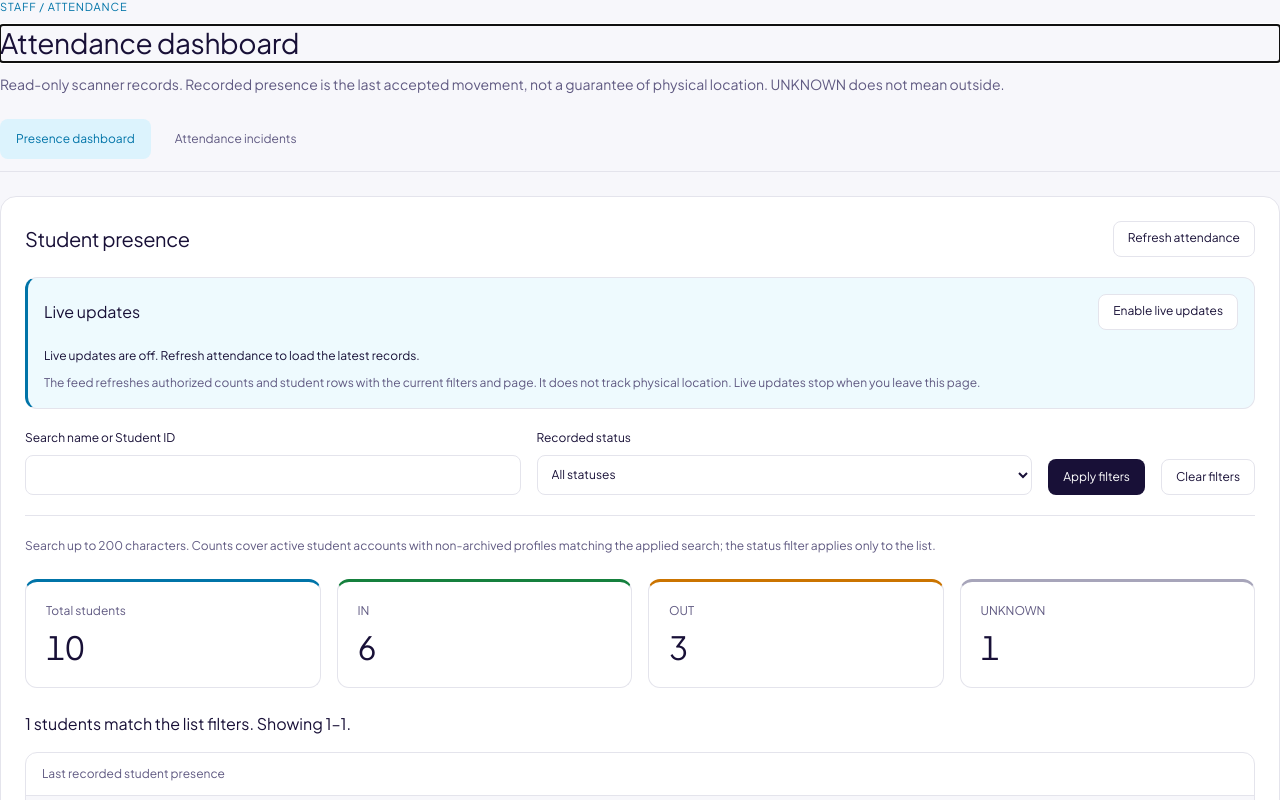
applies search to both endpoints and status only to the list
Type " Sample " into the field labelled "Search name or Student ID" at point(273, 475), box [25,455,521,495]
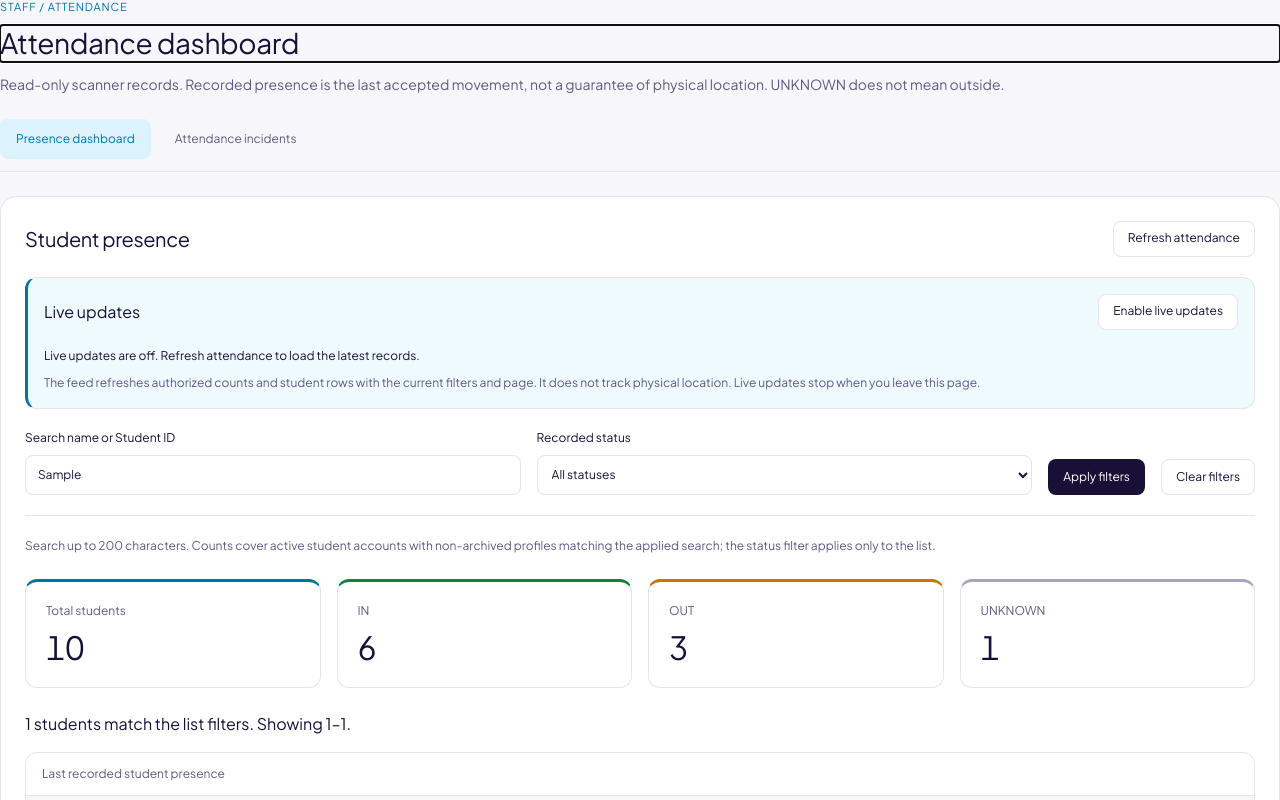
Select "IN" in the dropdown labelled "Recorded status" at point(784, 475), box [537,455,1032,495]
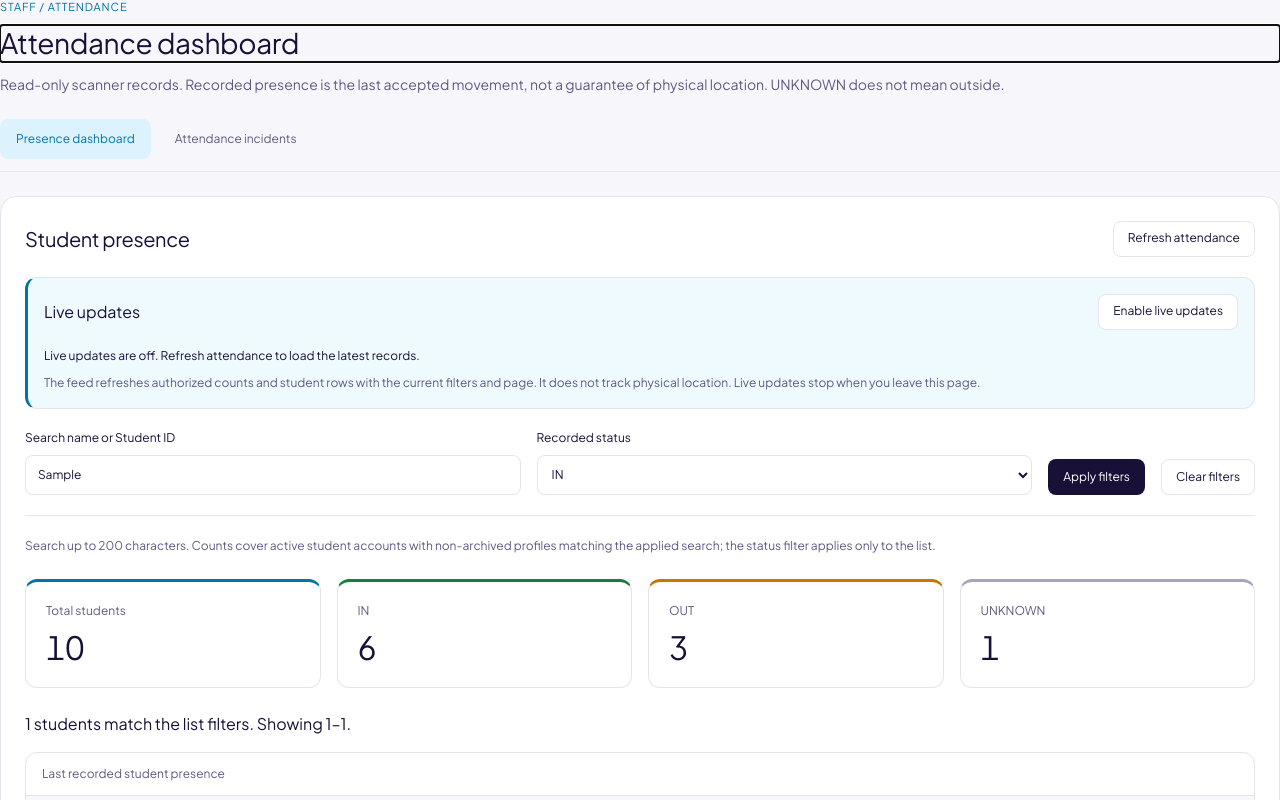
Click the button "Apply filters" at point(1097, 477), box [1048,459,1145,495]
(page scrolled)
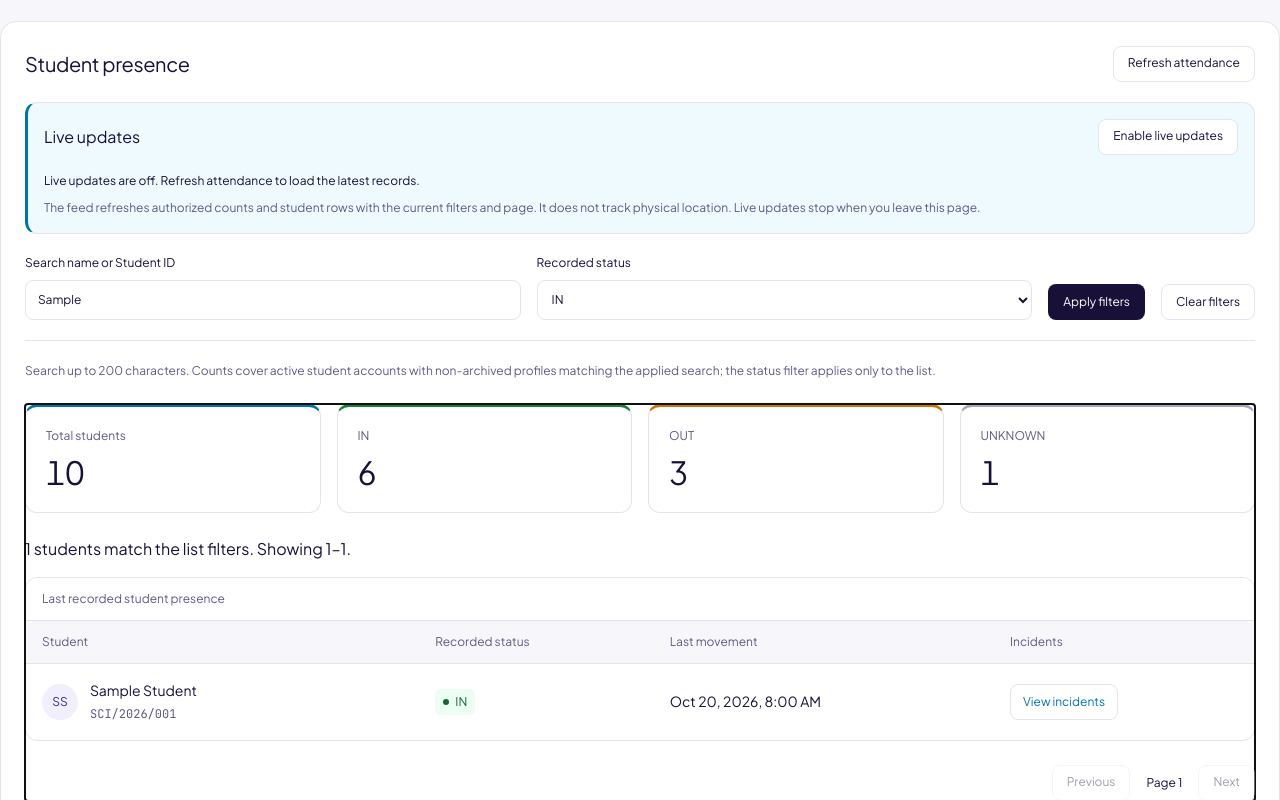
expect the link "Sample Student" is shown: met, box [90,680,197,698]
Click the button "Clear filters" at point(1208, 302), box [1161,284,1255,320]
(page scrolled)
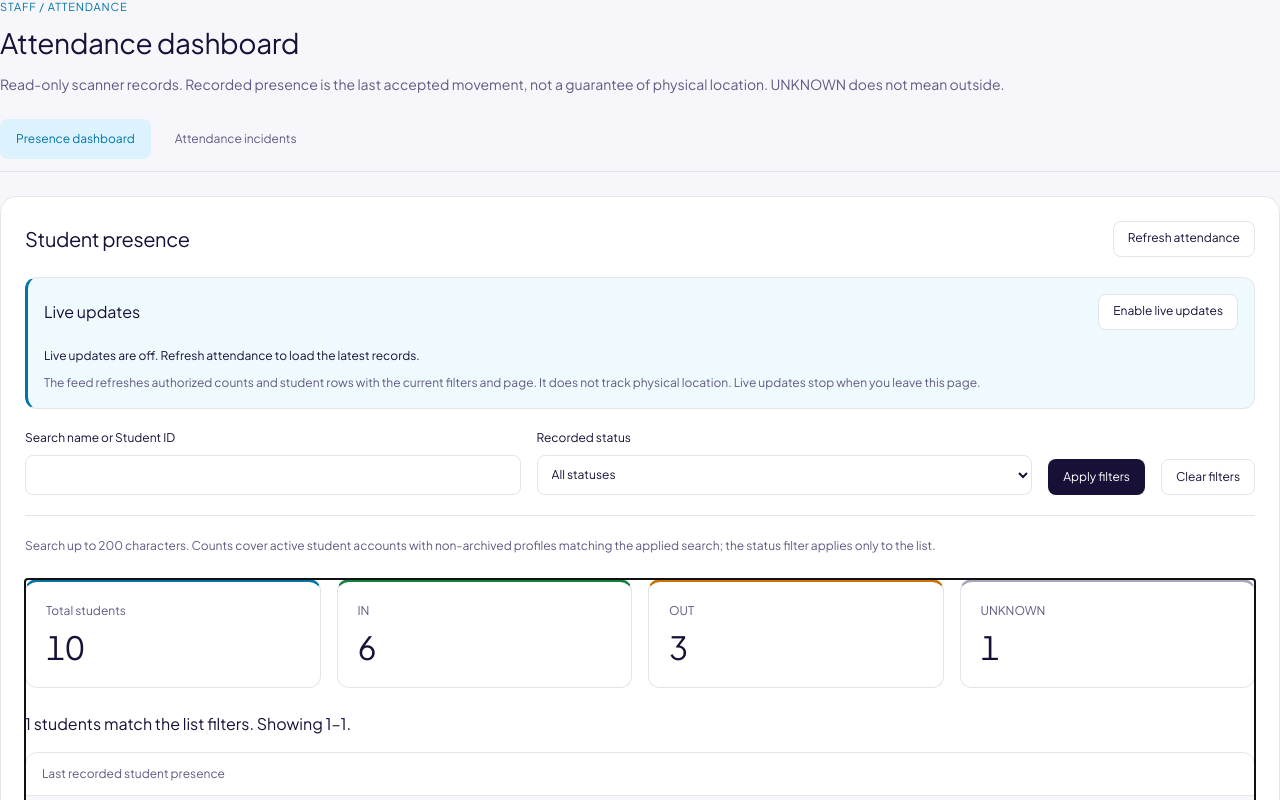
expect the field labelled "Search name or Student ID" is empty: met, box [25,455,521,495]
